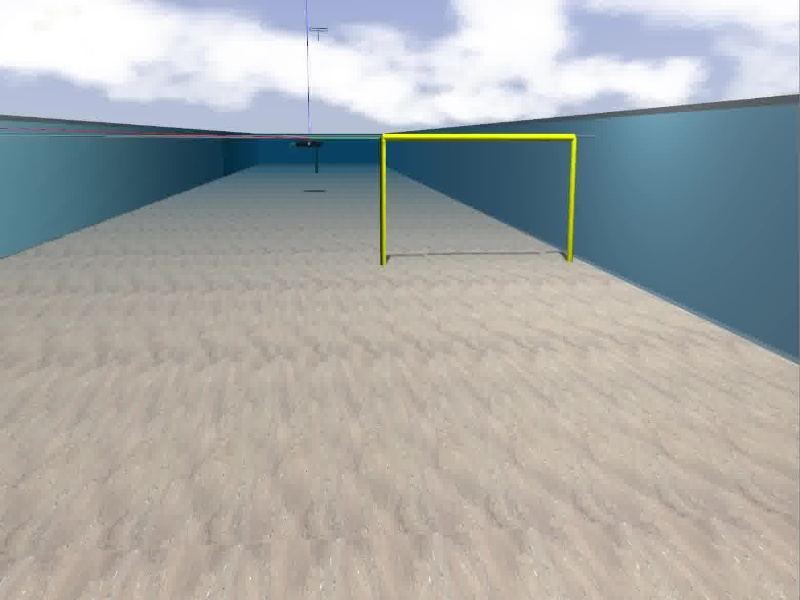gate: (379, 131, 579, 266)
